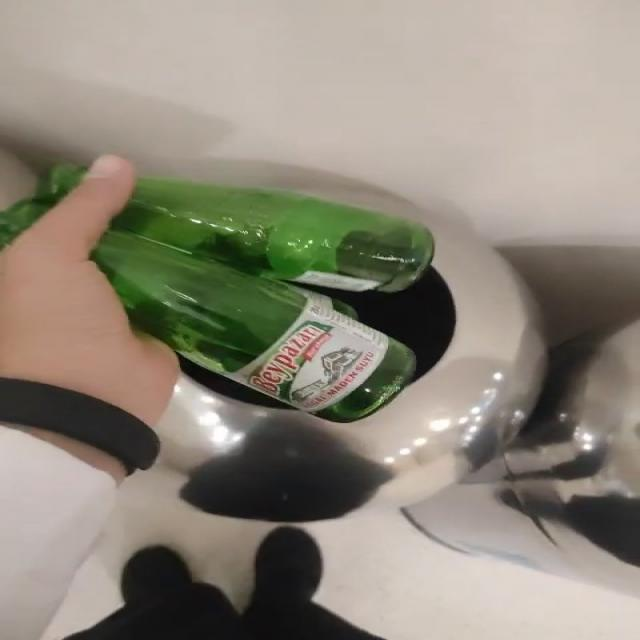Glass: (92, 178, 435, 420)
